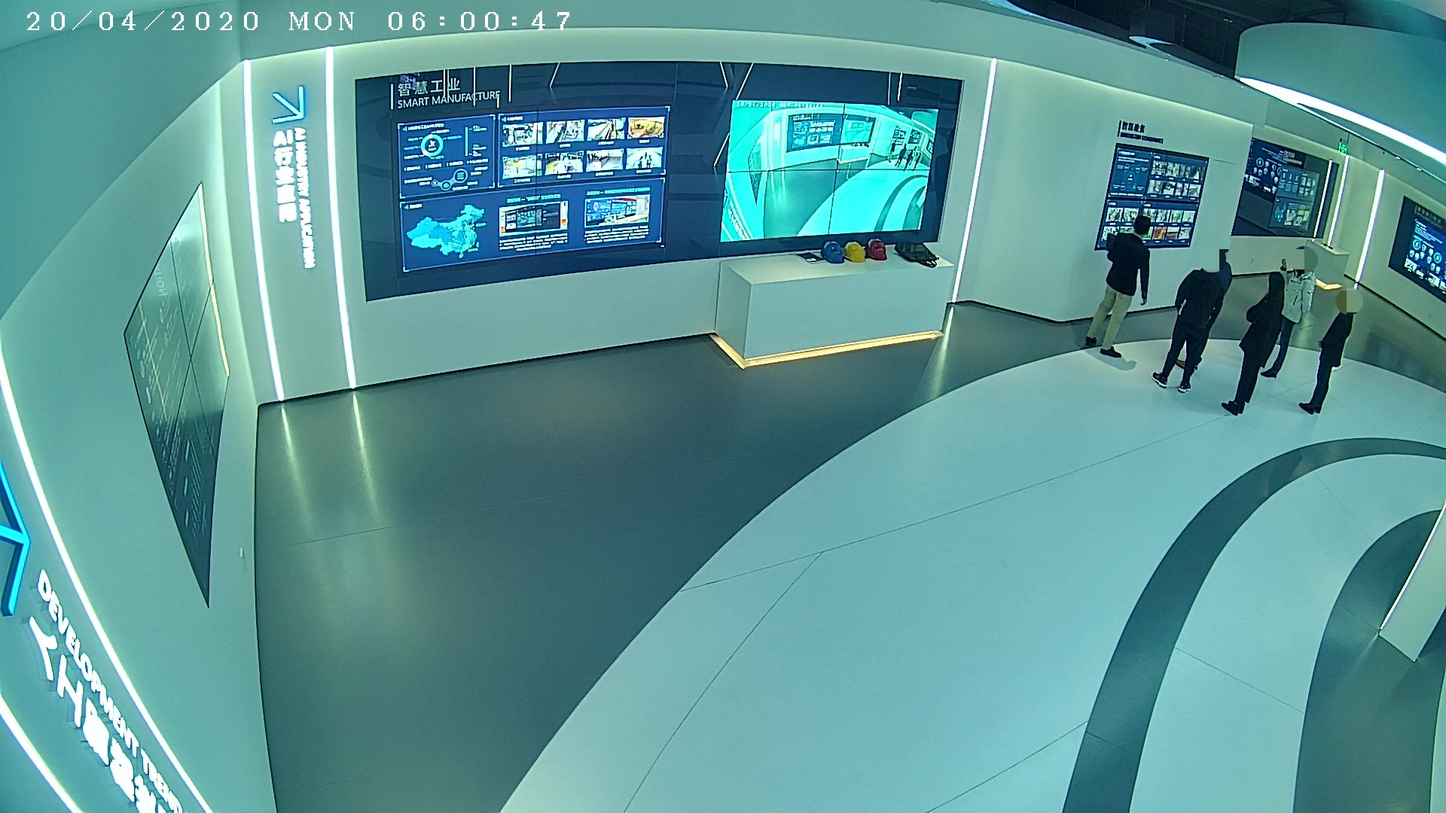head: (1265, 270, 1285, 294), (1200, 249, 1221, 269), (1131, 215, 1151, 236), (1293, 248, 1312, 270), (1335, 292, 1354, 312)
person: (1083, 213, 1155, 358), (1219, 269, 1286, 415), (1153, 249, 1223, 387), (1256, 248, 1315, 380), (1299, 291, 1354, 415)
